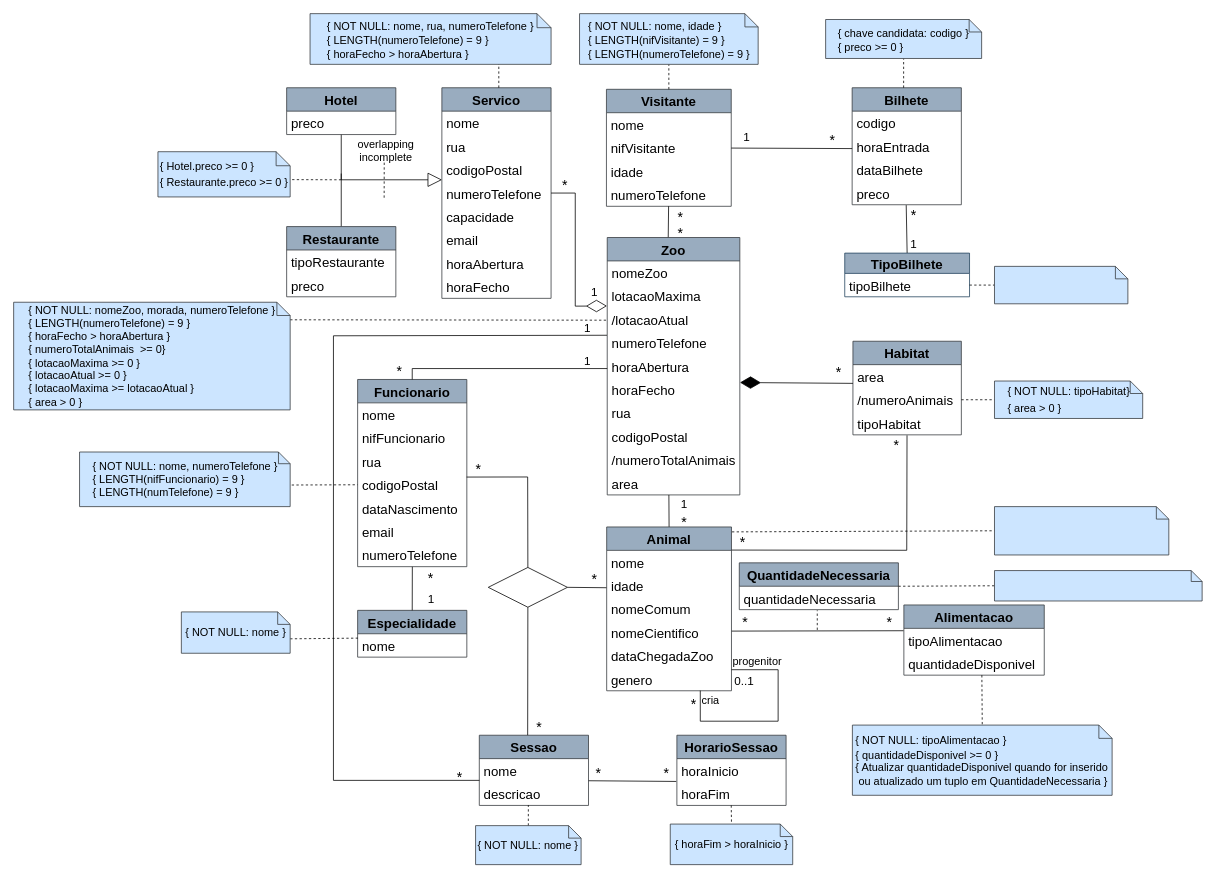
The diagram is 1216 pixels wide and 878 high, and some of its shapes have lost their labels. The shapes that lost their labels are listed below. From the top down, each one's centre as x and y in pixels, then its label:
(1061,285): { NOT NULL: tipoBilhete }
(1081,530): { NOT NULL: nome, nomeComum, nomeCientifico }
(1098,585): { NOT NULL: quantidadeNecessaria } { quantidadeNecessaria >= 0 }
